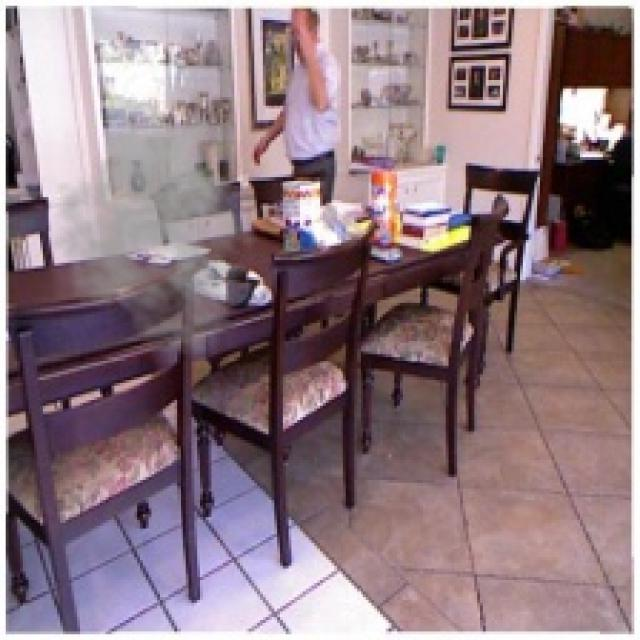smoke: (45, 92, 268, 357)
